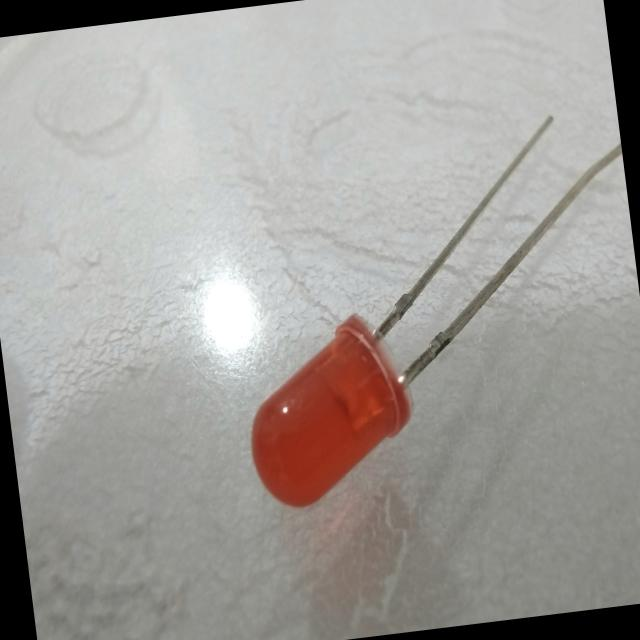red_led: (218, 294, 440, 544)
